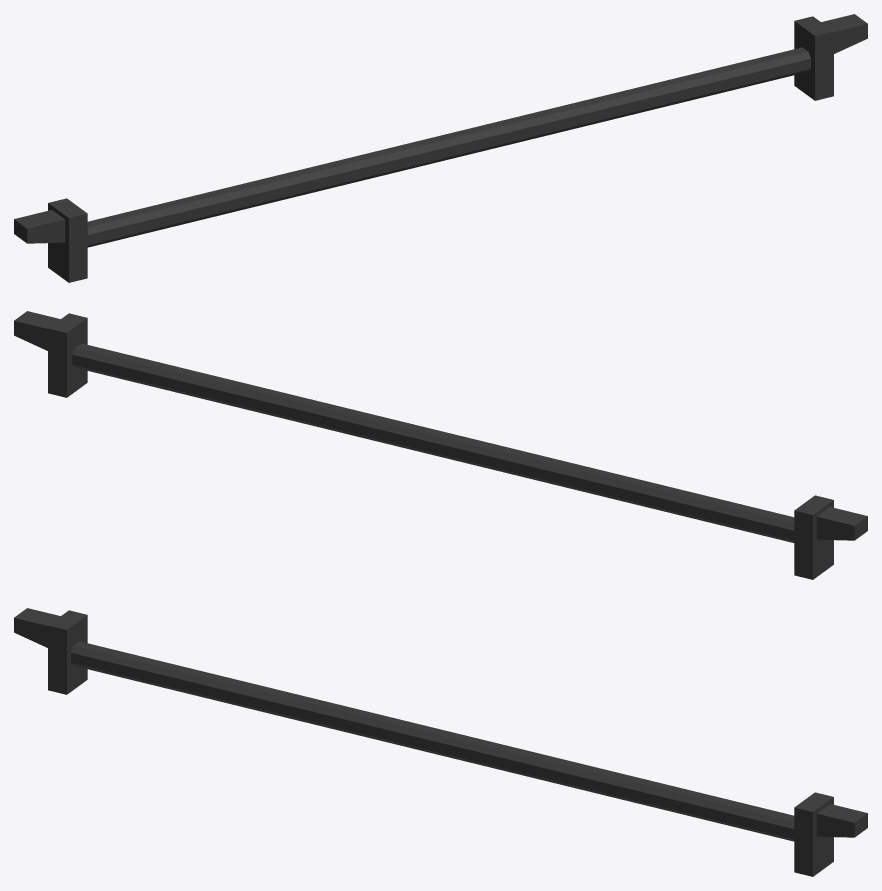
The model's file is Pullup_Bar.fbx.
3 views of the same model, one above another, from view 1: azimuth 30°, elevation 25°; view 2: azimuth 150°, elevation 25°; view 3: azimuth 330°, elevation 25° (orthographic).
Parts seen in each view (by area): view 1: Pullup_Bar; view 2: Pullup_Bar; view 3: Pullup_Bar.
Part boxes in pixels (x1,y1,x2,y2): Pullup_Bar: [14, 14, 867, 282]; Pullup_Bar: [14, 311, 867, 579]; Pullup_Bar: [14, 608, 867, 876].
Size of the model in its own units: 188 by 13.87 by 8.07.
